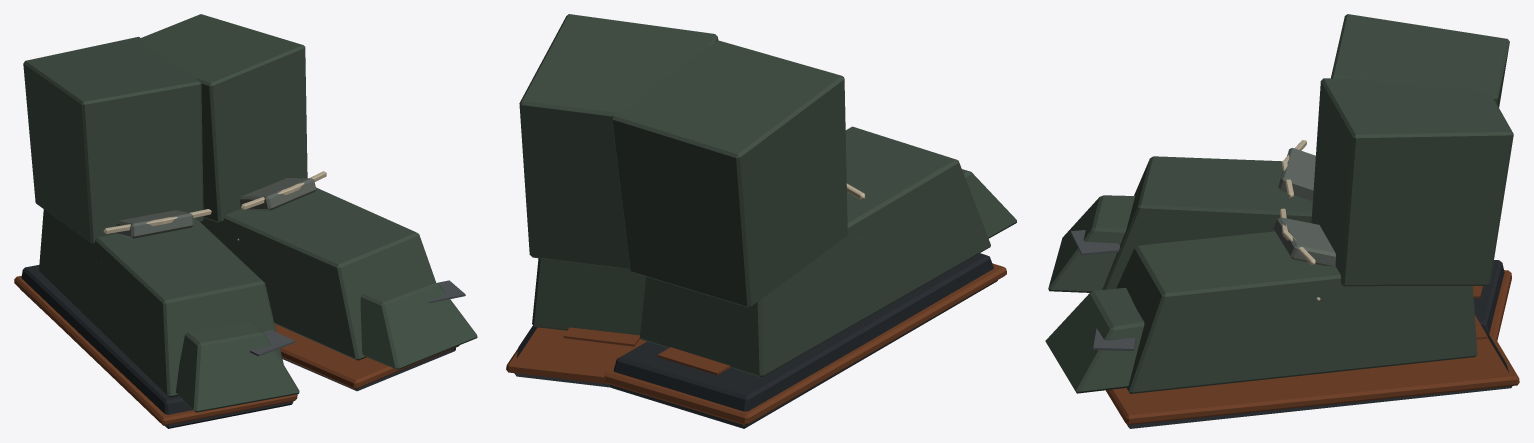
The model's file is personal_boots.glb.
3 views of the same model, side by side, from view 1: azimuth 30°, elevation 25°; view 2: azimuth 150°, elevation 25°; view 3: azimuth 270°, elevation 25° (orthographic). The views are drawn at different scales.
Visible parts, largest first — view 1: personal_boots; view 2: personal_boots; view 3: personal_boots.
Boxes of the visible parts, <box> form: personal_boots: <box>14,14,477,428</box>; personal_boots: <box>506,14,1016,428</box>; personal_boots: <box>1045,14,1519,428</box>.
Size of the model in its own units: 0.2892 by 0.2191 by 0.3508.
